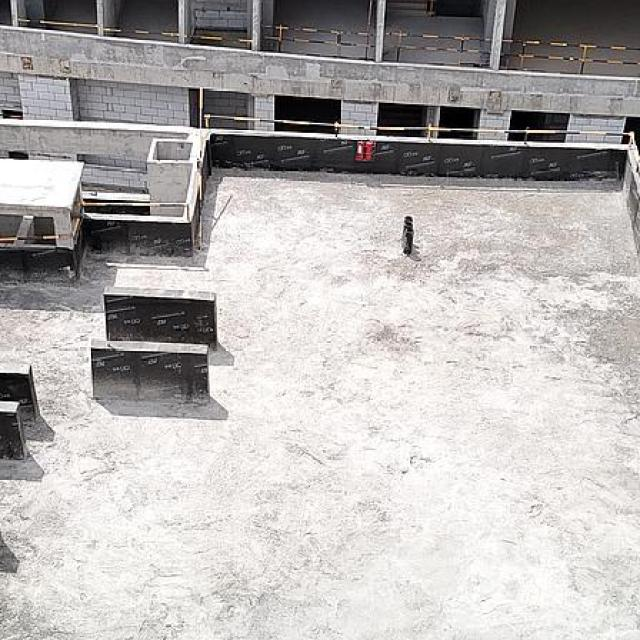edge_guardrail: (204, 114, 640, 175), (498, 38, 640, 74), (72, 201, 188, 239), (260, 23, 377, 58), (384, 31, 492, 66), (196, 86, 204, 250), (17, 18, 97, 29), (184, 34, 252, 43), (104, 28, 179, 36), (0, 234, 59, 243)
